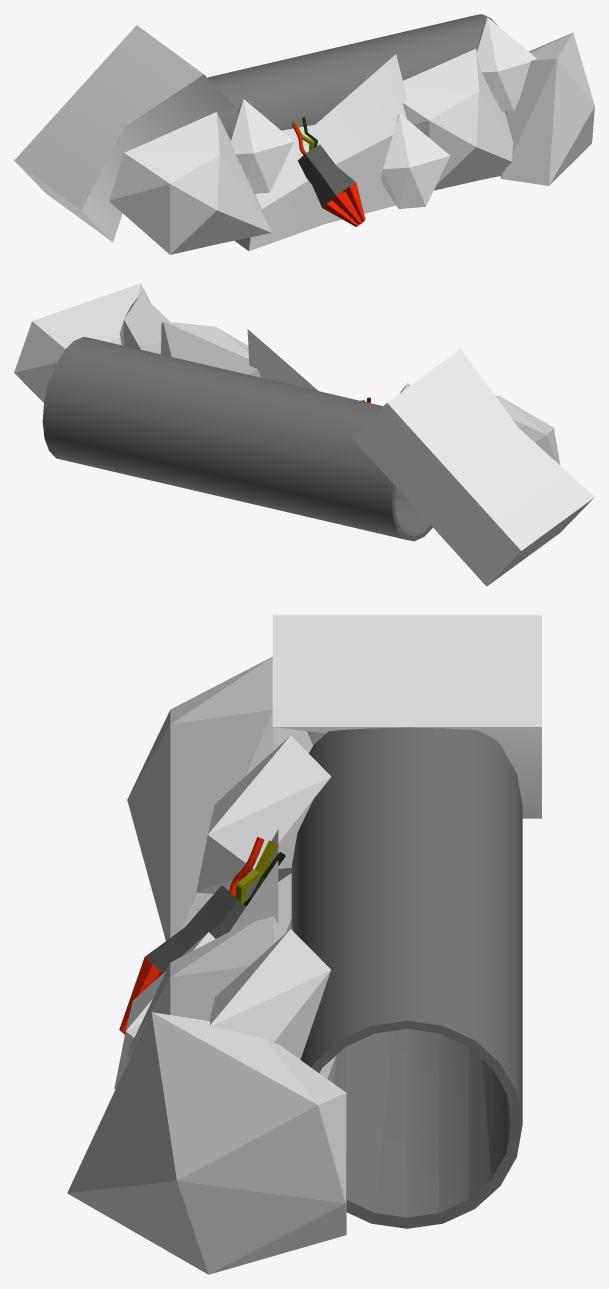
Rendered from Rubble.fbx.
3 views of the same model, one above another, from view 1: azimuth 30°, elevation 25°; view 2: azimuth 150°, elevation 25°; view 3: azimuth 270°, elevation 25° (orthographic). The views are drawn at different scales.
Visible parts, largest first — view 1: pPlatonic2; view 2: pPlatonic2; view 3: pPlatonic2.
Part boxes in pixels (x1,y1,x2,y2): pPlatonic2: (14, 14, 594, 254); pPlatonic2: (14, 283, 594, 586); pPlatonic2: (67, 615, 541, 1274).
Bounding box in the file's own units: 10.26 × 3.27 × 4.11.
